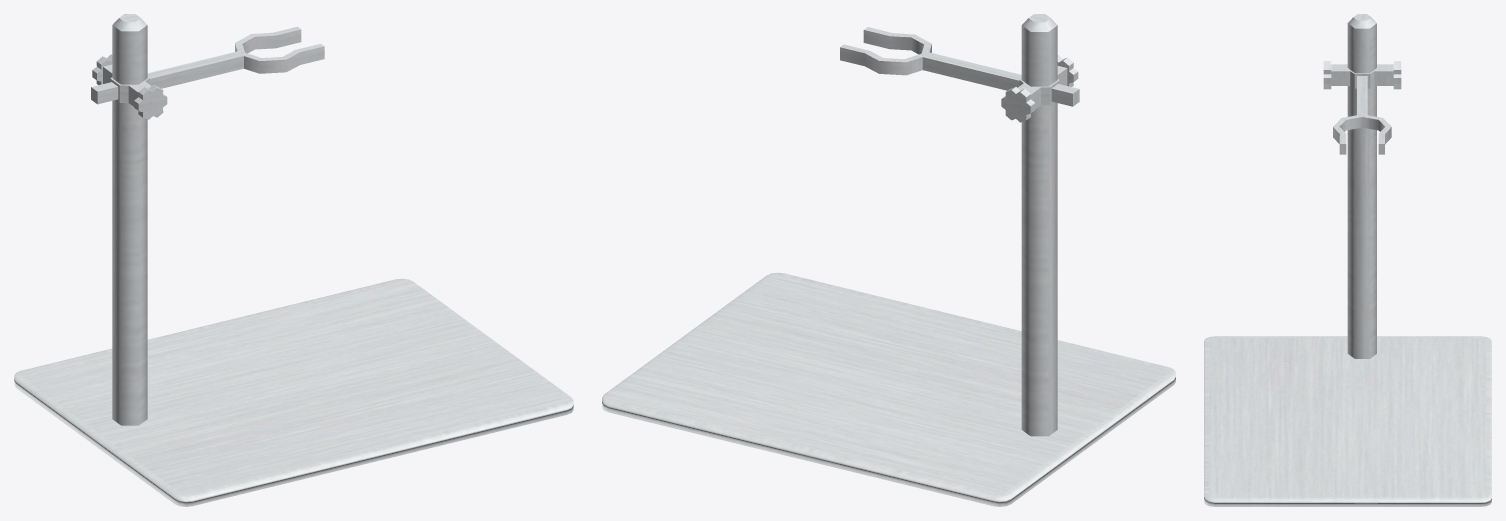
Rendered from Stand.glb.
The picture shows the model from 3 angles, left to right: view 1: azimuth 30°, elevation 25°; view 2: azimuth 150°, elevation 25°; view 3: azimuth 270°, elevation 25°; orthographic projection. The views are drawn at different scales.
Parts seen in each view (by area): view 1: Cube.001, ScienceSetEmissive_ScienceSetEmissive_02_0.001; view 2: Cube.001, ScienceSetEmissive_ScienceSetEmissive_02_0.001; view 3: Cube.001, ScienceSetEmissive_ScienceSetEmissive_02_0.001.
Boxes of the visible parts, x1,y1,x2,y2 form: Cube.001: (14,278,573,506); ScienceSetEmissive_ScienceSetEmissive_02_0.001: (91,14,324,425); Cube.001: (602,272,1175,506); ScienceSetEmissive_ScienceSetEmissive_02_0.001: (840,14,1079,436); Cube.001: (1204,336,1491,506); ScienceSetEmissive_ScienceSetEmissive_02_0.001: (1323,14,1401,358).
Size of the model in its own units: 1.95 by 1.93 by 1.46.
Materials: 1 (1 with a texture image).
